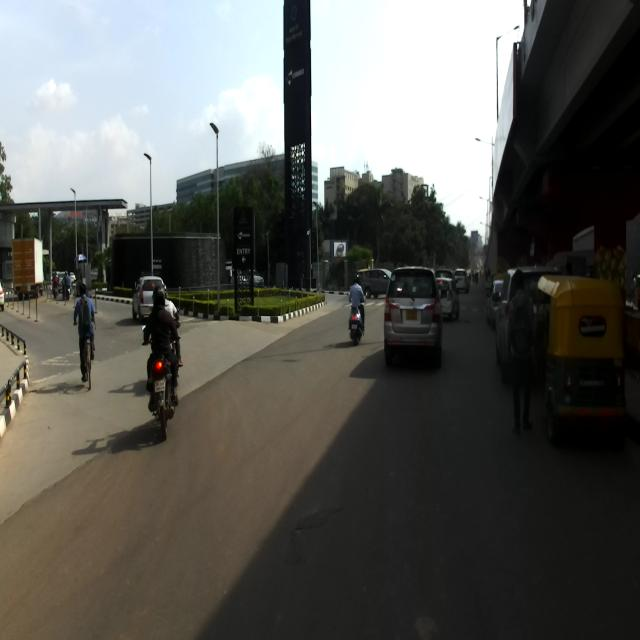auto ahead at: (535, 271, 626, 443)
motorcycle ahead at: (143, 348, 183, 434)
